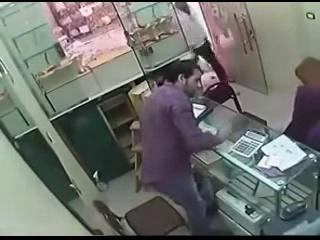Normal: (139, 58, 229, 234)
